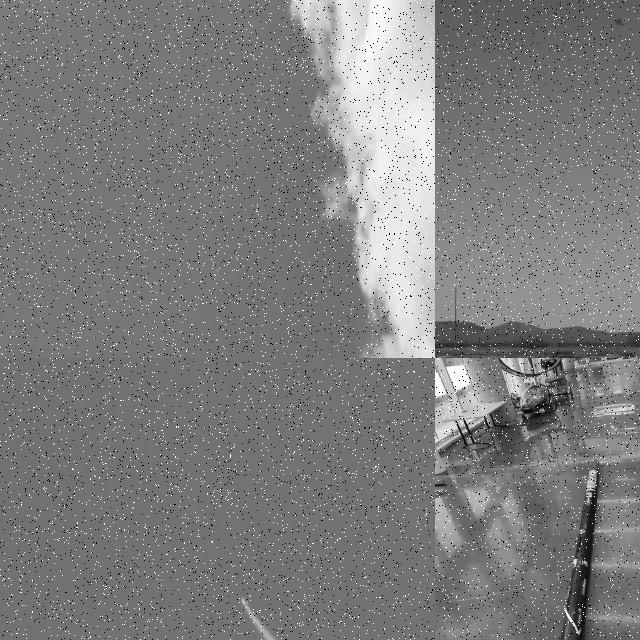Rocket: (560, 456, 599, 640), (242, 596, 247, 607), (275, 351, 279, 358)
